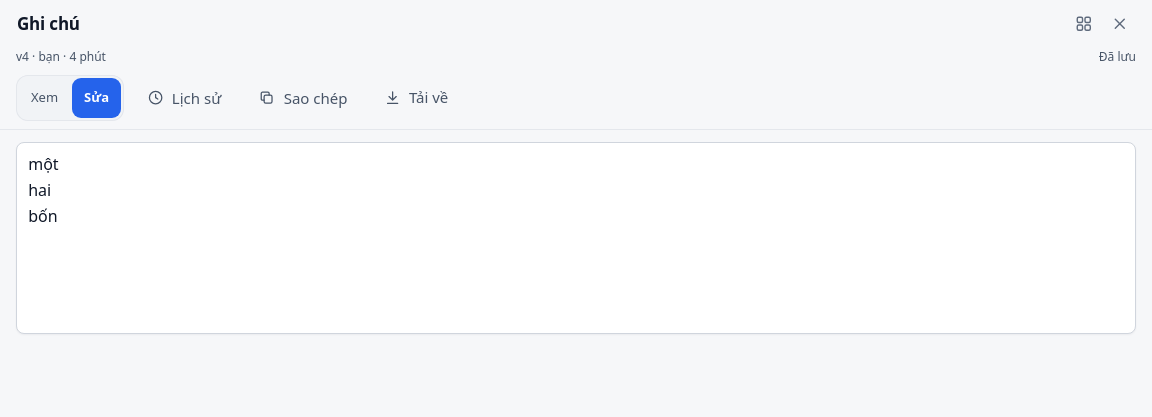
Scenario: the versions of a canvas › closes without restoring anything
Click the button "Lịch sử" at (184, 98), box [132,80,236,116]
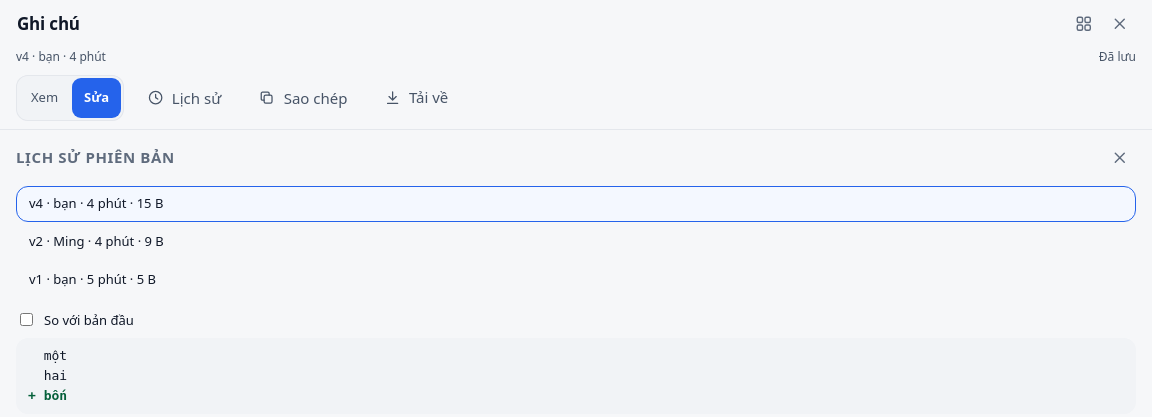
Click the button named "Đóng" in the row of "Lịch sử phiên bản" at (1120, 158), box [1104,142,1136,174]
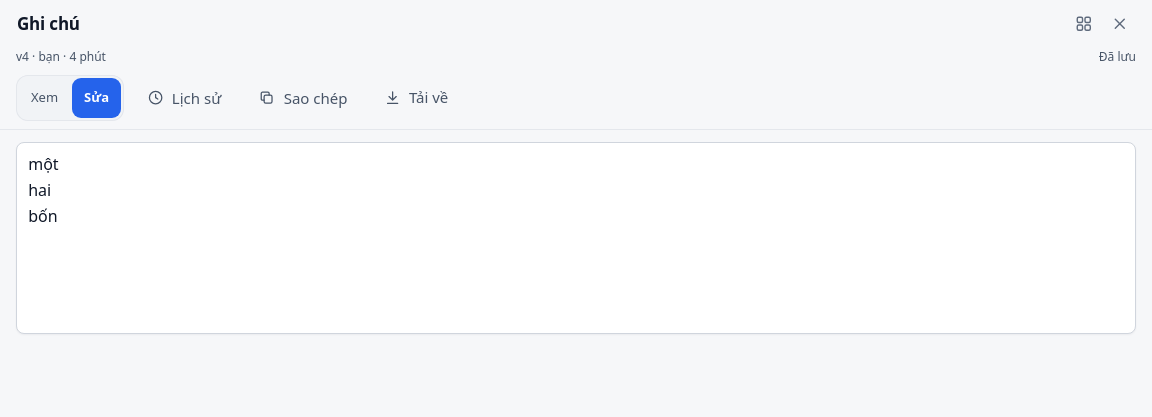
Expected: the heading "Lịch sử phiên bản" is gone
